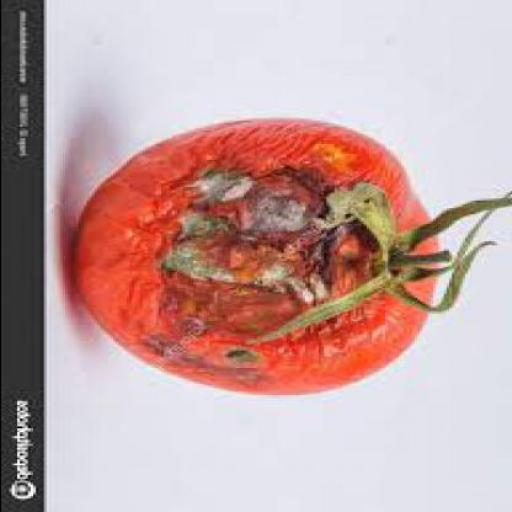biodegradable: (71, 120, 511, 398)
